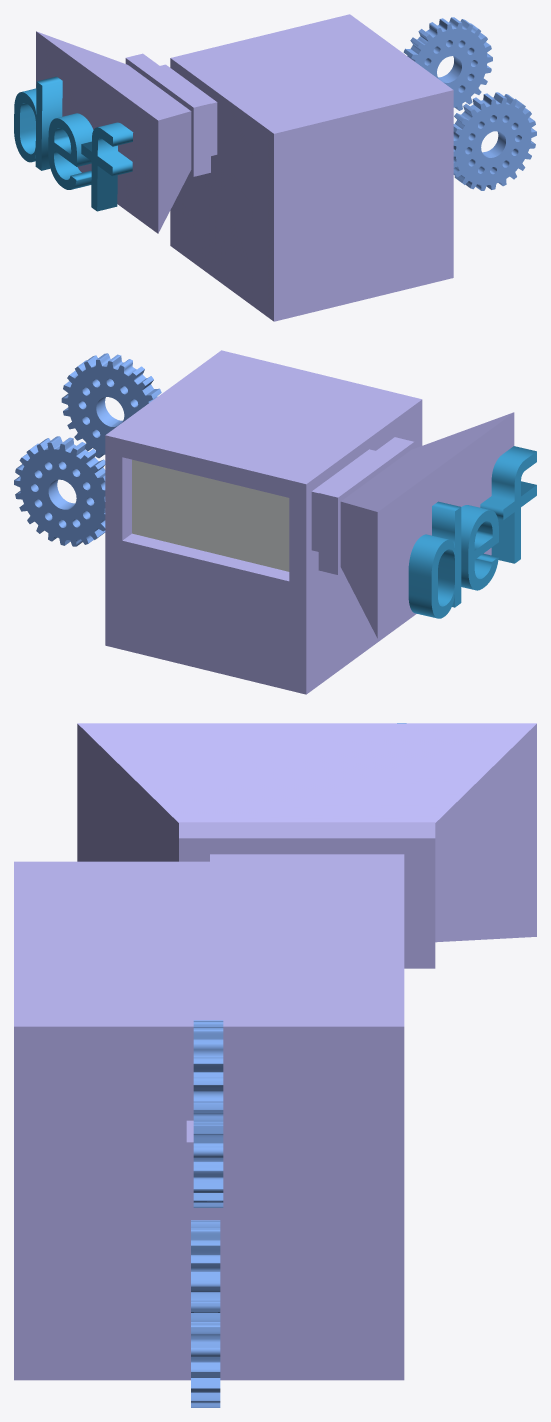
The picture shows the model from 3 angles, top to bottom: view 1: azimuth 30°, elevation 25°; view 2: azimuth 150°, elevation 25°; view 3: azimuth 270°, elevation 25°; orthographic projection. The views are drawn at different scales.
Visible parts, largest first — view 1: Cube, Text, path1.001, path1; view 2: Cube, Text, path1.001, path1; view 3: Cube, path1, path1.001.
Boxes of the visible parts, left/top/right/bottom form: Cube: left=36, top=14, right=453, bottom=321; Text: left=14, top=76, right=133, bottom=211; path1.001: left=453, top=92, right=536, bottom=190; path1: left=403, top=17, right=492, bottom=110; Cube: left=105, top=350, right=514, bottom=694; Text: left=408, top=446, right=536, bottom=618; path1.001: left=14, top=436, right=105, bottom=546; path1: left=61, top=353, right=161, bottom=458; Cube: left=14, top=723, right=536, bottom=1380; path1: left=193, top=1020, right=223, bottom=1207; path1.001: left=191, top=1220, right=220, bottom=1407.
Size of the model in its own units: 4.95 by 2.27 by 2.68.
